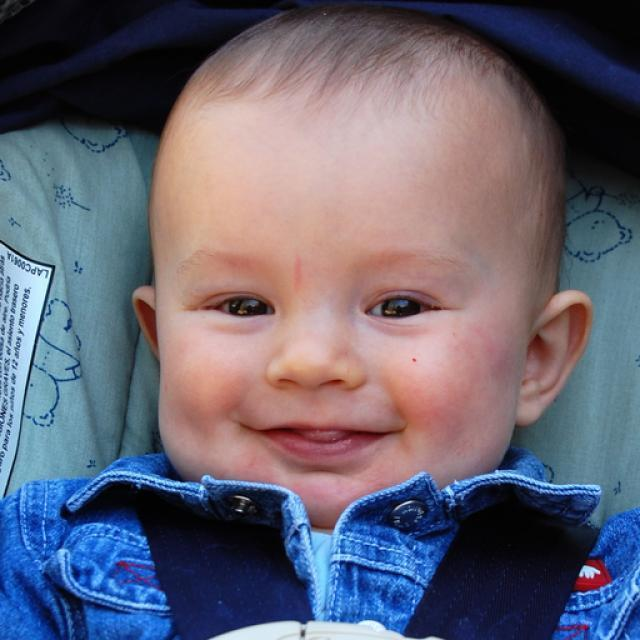0_rostro_limpio: (136, 10, 587, 487)
